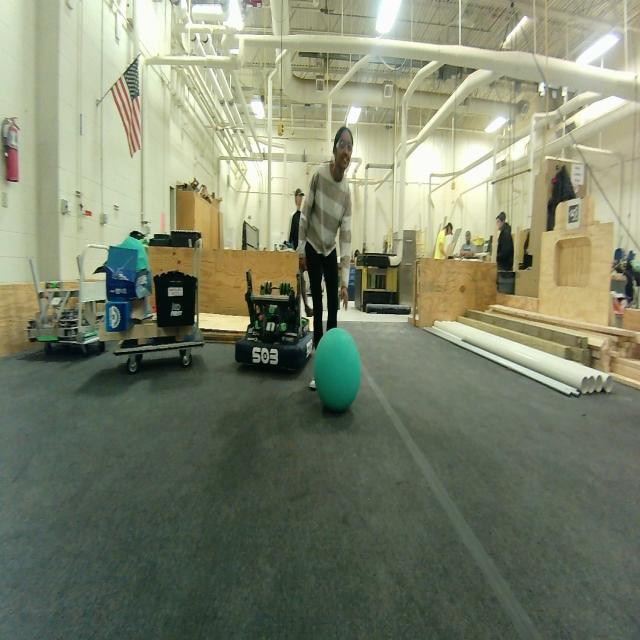algae: (313, 321, 363, 416)
